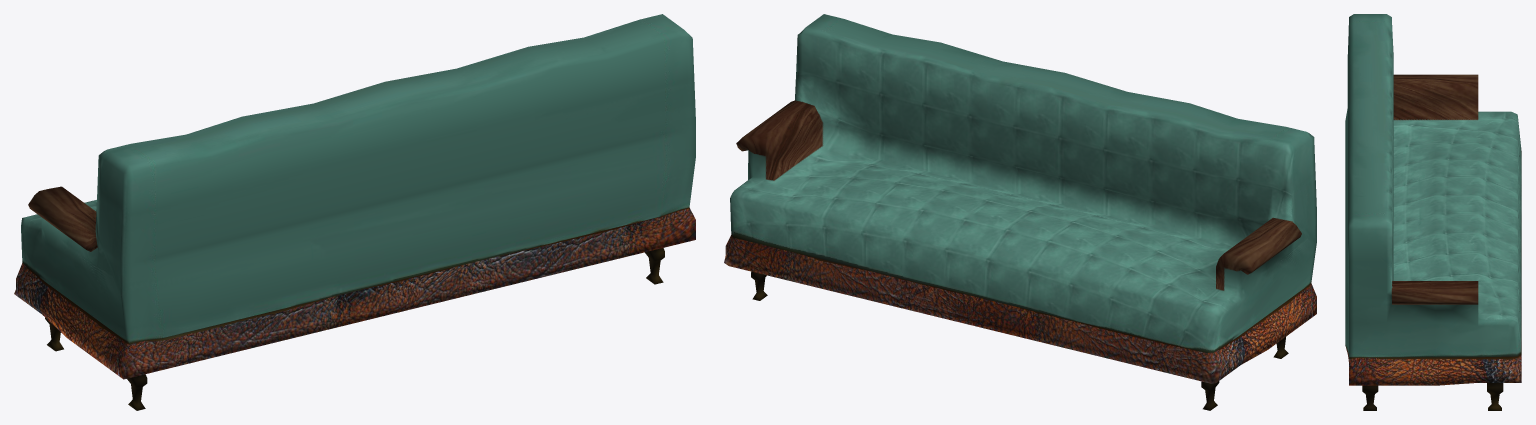
Rendered from Couch.fbx.
The picture shows the model from 3 angles, left to right: view 1: azimuth 30°, elevation 25°; view 2: azimuth 150°, elevation 25°; view 3: azimuth 270°, elevation 25°; orthographic projection. The views are drawn at different scales.
Visible parts, largest first — view 1: LowCouch; view 2: LowCouch; view 3: LowCouch.
Boxes of the visible parts, x1,y1,x2,y2 form: LowCouch: (14, 14, 695, 410); LowCouch: (724, 14, 1316, 410); LowCouch: (1345, 14, 1521, 410).
Size of the model in its own units: 610 by 249 by 204.
